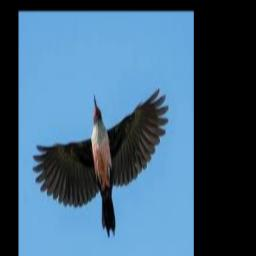Woodpecker: (33, 89, 168, 237)
